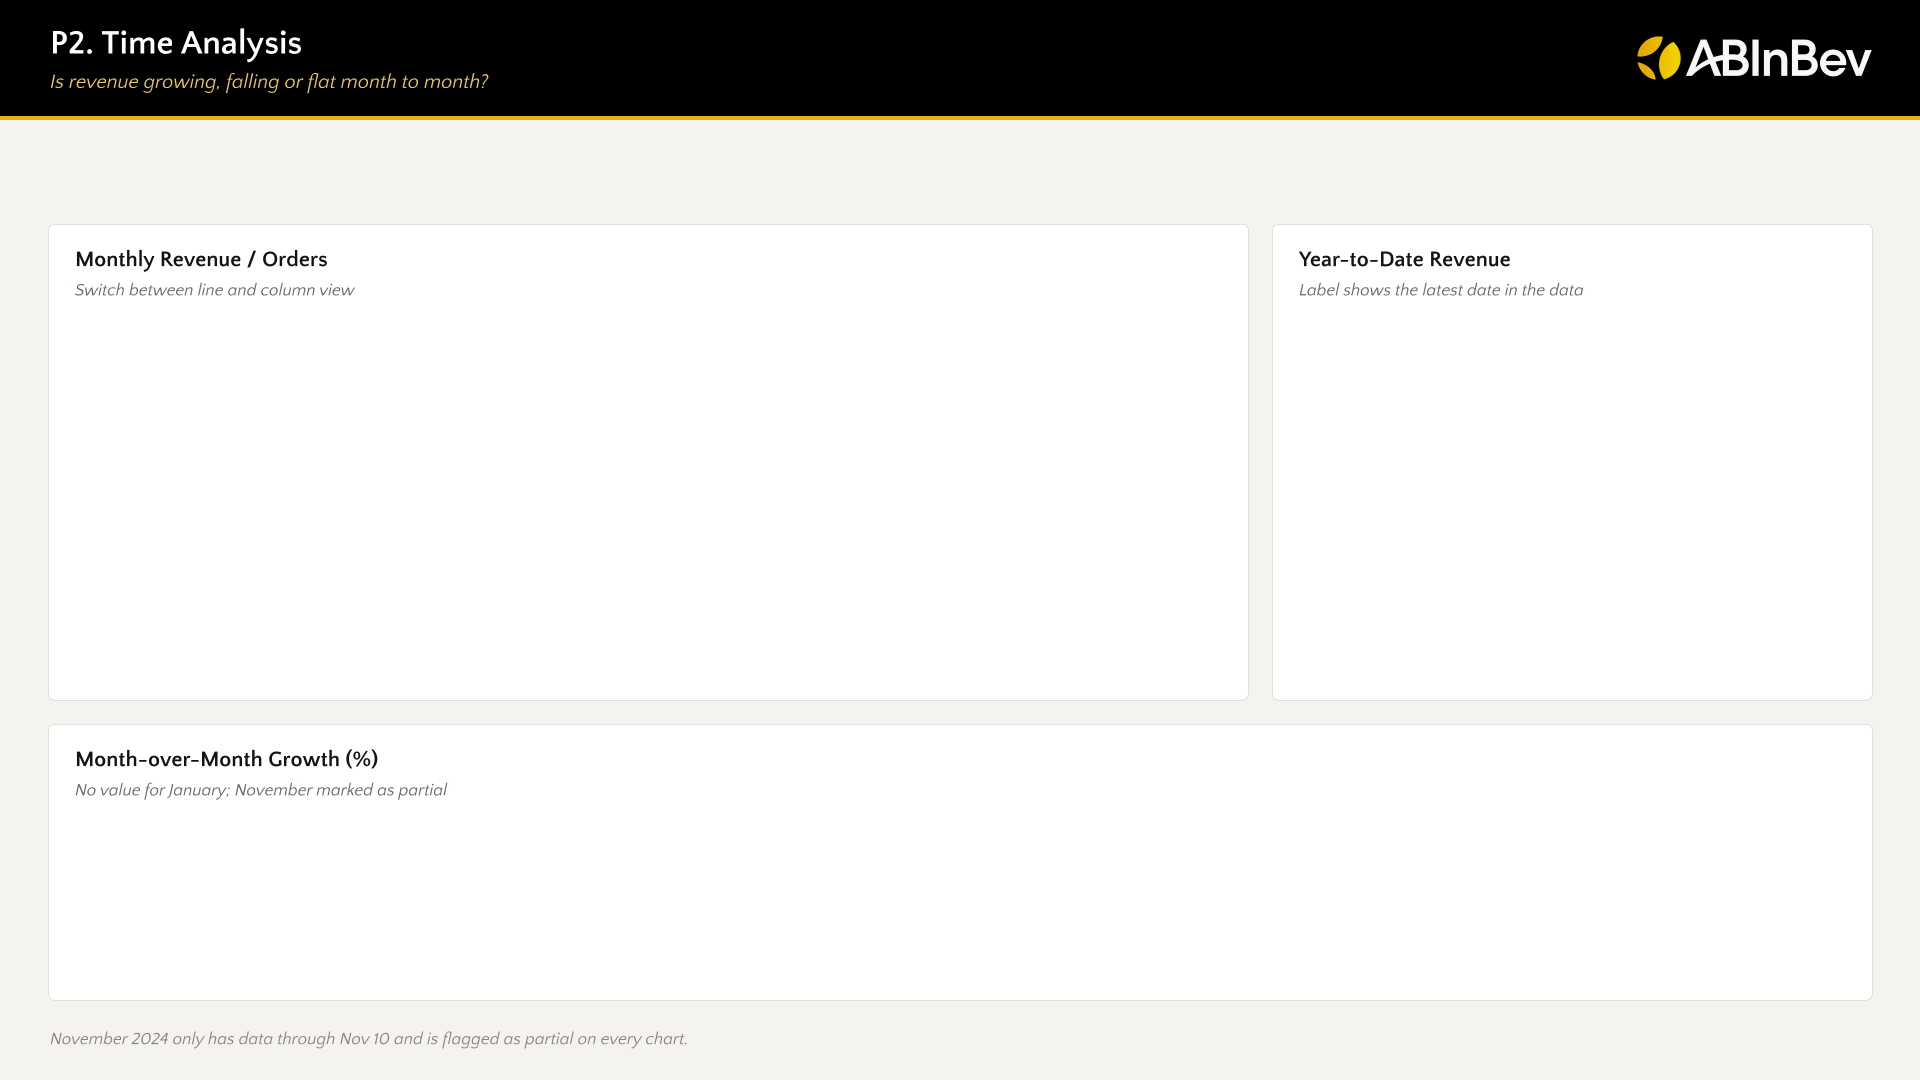

This screenshot's page, from the dashboard's own definition file:
{"tool":"powerbi","page":{"name":"Time Analysis","canvas":[1920,1080],"ordinal":1},"visuals":[{"type":"slicer","fields":{"Values":["dim_date.MonthName"]},"box":[47.1,127.1,440,72.9],"z":0},{"type":"slicer","fields":{"Values":["dim_customer.user_id"]},"box":[511.4,127.1,440,72.9],"z":1000},{"type":"slicer","fields":{"Values":["targets.city"]},"box":[971.4,127.1,440,72.9],"z":2000},{"type":"slicer","fields":{"Values":["dim_customer.category"]},"box":[1432.9,127.1,440,72.9],"z":3000},{"type":"lineChart","fields":{"Category":["dim_date.MonthName"],"Y":["Metricas.YTD Revenue","Metricas.Total Revenue"]},"box":[1292.9,300,575.7,394.3],"z":4000},{"type":"clusteredColumnChart","fields":{"Category":["dim_date.MonthName"],"Y":["Metricas.MoM Growth %"]},"box":[71.4,774.3,1797.1,217.1],"z":5000},{"type":"lineChart","title":"Rev_line","fields":{"Category":["dim_date.MonthName"],"Y":["Metricas.Total Revenue"]},"box":[71.4,300,1167.1,394.3],"z":10000},{"type":"actionButton","title":"button_o_columns","box":[652.9,237.1,125.7,40],"z":10001},{"type":"actionButton","title":"button_r_columns","box":[958.6,237.1,125.7,40],"z":10002},{"type":"actionButton","title":"button_o_lines","box":[805.7,237.1,125.7,40],"z":10003},{"type":"actionButton","title":"button_r_lines","box":[1111.4,237.1,125.7,40],"z":10004}]}

Visuals, with their boxes in screenshot pixels (x1, y1, x2, y2), scaled from the page's 1920x1080 canvas onto the 1920x1080 screenshot:
slicer - dim_date.MonthName: (47, 127, 487, 200)
slicer - dim_customer.user_id: (511, 127, 951, 200)
slicer - targets.city: (971, 127, 1411, 200)
slicer - dim_customer.category: (1433, 127, 1873, 200)
lineChart - dim_date.MonthName x Metricas.YTD Revenue: (1293, 300, 1869, 694)
clusteredColumnChart - dim_date.MonthName x Metricas.MoM Growth %: (71, 774, 1868, 991)
"Rev_line" lineChart: (71, 300, 1238, 694)
"button_o_columns" actionButton: (653, 237, 779, 277)
"button_r_columns" actionButton: (959, 237, 1084, 277)
"button_o_lines" actionButton: (806, 237, 931, 277)
"button_r_lines" actionButton: (1111, 237, 1237, 277)
